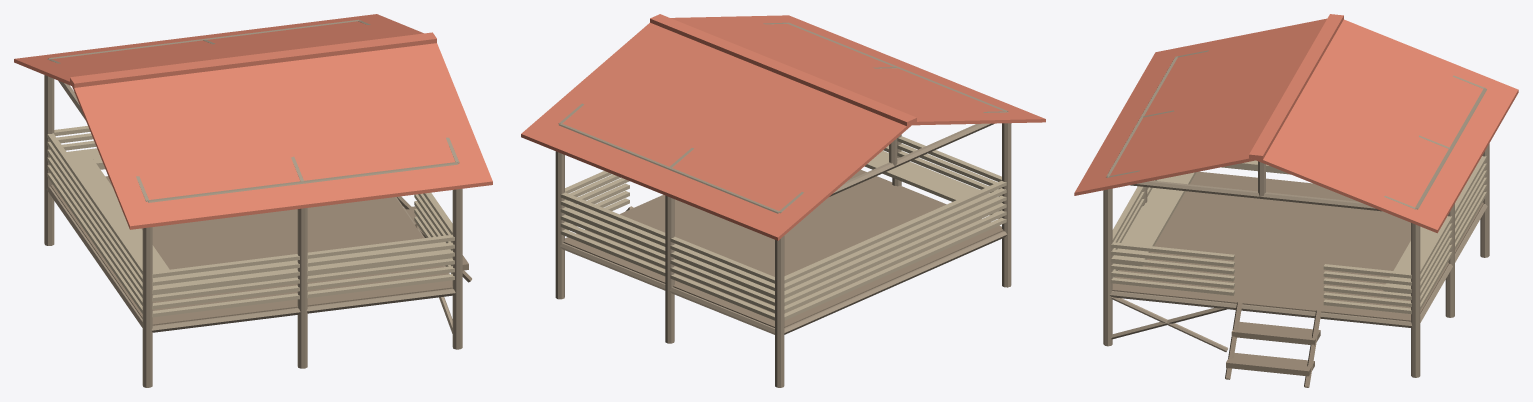
The model's file is rares_rest_area.glb.
The picture shows the model from 3 angles, left to right: view 1: azimuth 30°, elevation 25°; view 2: azimuth 150°, elevation 25°; view 3: azimuth 270°, elevation 25°; orthographic projection. The views are drawn at different scales.
Parts seen in each view (by area): view 1: Coral_Gable_Roof, Bamboo_Railings_Benches, Deck_And_Stairs, Timber_Structure; view 2: Coral_Gable_Roof, Bamboo_Railings_Benches, Deck_And_Stairs, Timber_Structure; view 3: Coral_Gable_Roof, Deck_And_Stairs, Bamboo_Railings_Benches, Timber_Structure.
Boxes of the visible parts, bbox=[...] form: Coral_Gable_Roof: bbox=[14, 14, 492, 229]; Bamboo_Railings_Benches: bbox=[47, 126, 454, 317]; Deck_And_Stairs: bbox=[50, 176, 471, 325]; Timber_Structure: bbox=[44, 19, 462, 387]; Coral_Gable_Roof: bbox=[521, 14, 1045, 240]; Bamboo_Railings_Benches: bbox=[560, 136, 1006, 320]; Deck_And_Stairs: bbox=[563, 169, 1003, 327]; Timber_Structure: bbox=[555, 22, 1011, 387]; Coral_Gable_Roof: bbox=[1074, 14, 1518, 233]; Deck_And_Stairs: bbox=[1112, 171, 1483, 387]; Bamboo_Railings_Benches: bbox=[1110, 156, 1486, 314]; Timber_Structure: bbox=[1103, 50, 1489, 377].
Size of the model in its own units: 5.9 by 3.35 by 6.23.
